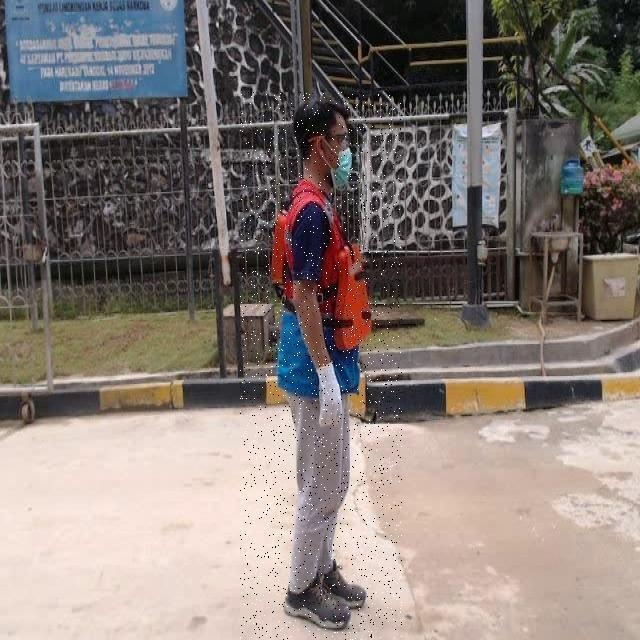boots: (284, 575, 354, 632), (312, 561, 368, 608)
gloves: (316, 365, 346, 426)
vest: (274, 179, 374, 398)
